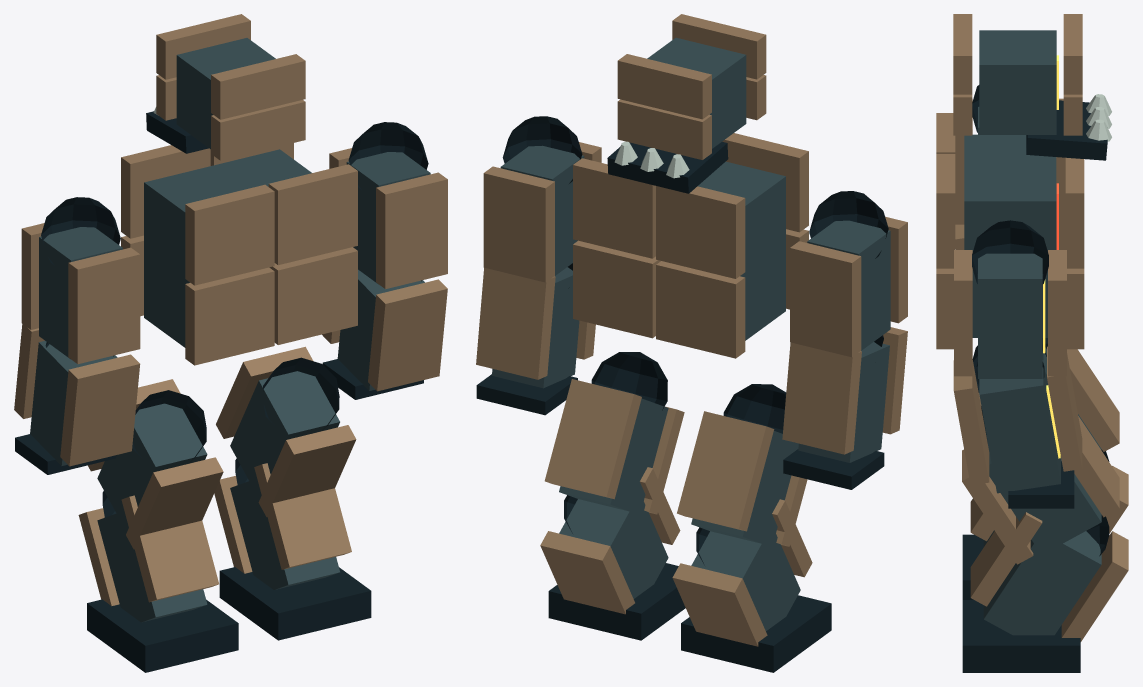
Rendered from relay-zero-breaker-walker-v1.glb.
3 views of the same model, side by side, from view 1: azimuth 30°, elevation 25°; view 2: azimuth 150°, elevation 25°; view 3: azimuth 270°, elevation 25° (orthographic).
Parts seen in each view (by area): view 1: chest surface 1, leftArm surface 8, chest surface 9, rightArm surface 8, chest surface 7, rightLeg surface 11, leftLeg surface 11, chest surface 10, rightArm surface 7, leftArm surface 7, chest surface 8, rightLeg surface 1 (+29 smaller); view 2: leftLeg surface 6, rightLeg surface 6, chest surface 1, rightArm surface 6, leftArm surface 6, chest surface 3, chest surface 5, leftArm surface 5, rightArm surface 5, chest surface 4, chest surface 6, rightLeg surface 3 (+31 smaller); view 3: chest surface 1, head surface 1, rightArm surface 1, rightLeg surface 3, rightArm surface 3, rightLeg surface 11, rightLeg surface 5, rightLeg surface 7, leftLeg surface 6, rightArm surface 7, rightLeg surface 1, rightArm surface 5 (+25 smaller).
Part boxes in pixels (left/top/right/bottom): chest surface 1: left=144, top=149, right=311, bottom=347; leftArm surface 8: left=68, top=247, right=140, bottom=364; chest surface 9: left=185, top=184, right=274, bottom=285; rightArm surface 8: left=376, top=172, right=447, bottom=289; chest surface 7: left=185, top=267, right=274, bottom=365; rightLeg surface 11: left=219, top=567, right=371, bottom=640; leftLeg surface 11: left=87, top=599, right=238, bottom=672; chest surface 10: left=268, top=164, right=357, bottom=265; rightArm surface 7: left=368, top=279, right=447, bottom=391; leftArm surface 7: left=60, top=354, right=140, bottom=466; chest surface 8: left=269, top=247, right=357, bottom=344; rightLeg surface 1: left=230, top=371, right=339, bottom=499; leftLeg surface 6: left=677, top=411, right=774, bottom=531; rightLeg surface 6: left=544, top=379, right=641, bottom=499; chest surface 1: left=698, top=161, right=785, bottom=340; rightArm surface 6: left=483, top=166, right=554, bottom=282; leftArm surface 6: left=790, top=241, right=861, bottom=357; chest surface 3: left=656, top=261, right=745, bottom=358; chest surface 5: left=656, top=186, right=745, bottom=278; leftArm surface 5: left=782, top=342, right=861, bottom=454; rightArm surface 5: left=476, top=267, right=555, bottom=379; chest surface 4: left=573, top=240, right=660, bottom=338; chest surface 6: left=573, top=158, right=655, bottom=258; rightLeg surface 3: left=559, top=493, right=668, bottom=598; chest surface 1: left=964, top=134, right=1056, bottom=337; head surface 1: left=979, top=30, right=1056, bottom=134; rightArm surface 1: left=978, top=253, right=1042, bottom=378; rightLeg surface 3: left=983, top=531, right=1101, bottom=635; rightArm surface 3: left=979, top=360, right=1060, bottom=493; rightLeg surface 11: left=962, top=600, right=1080, bottom=672; rightLeg surface 5: left=1061, top=531, right=1128, bottom=641; rightLeg surface 7: left=970, top=512, right=1042, bottom=606; leftLeg surface 6: left=1067, top=349, right=1119, bottom=451; rightArm surface 7: left=953, top=360, right=989, bottom=485; rightLeg surface 1: left=988, top=444, right=1101, bottom=552; rightArm surface 5: left=1047, top=346, right=1082, bottom=471.
Bounding box in the file's own units: 4.66 × 6.82 × 2.04.
